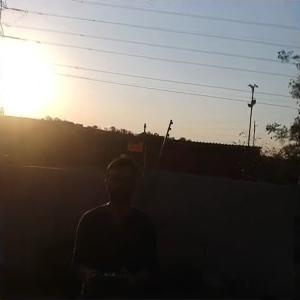follow: (64, 150, 162, 298)
